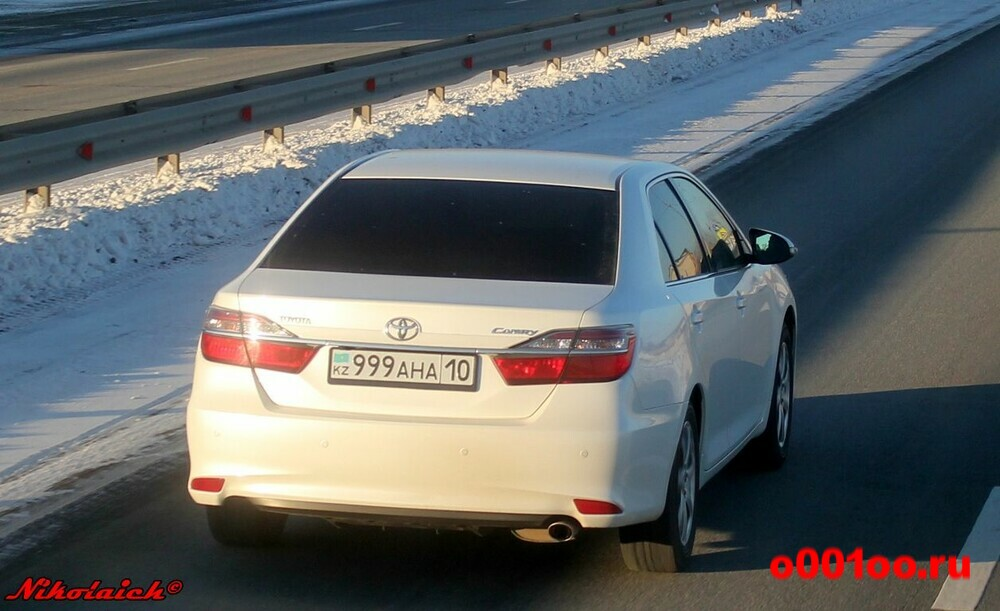license_plate: (329, 347, 479, 388)
